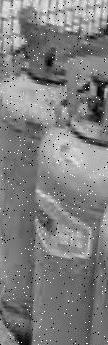cylinder: (0, 1, 108, 345)
